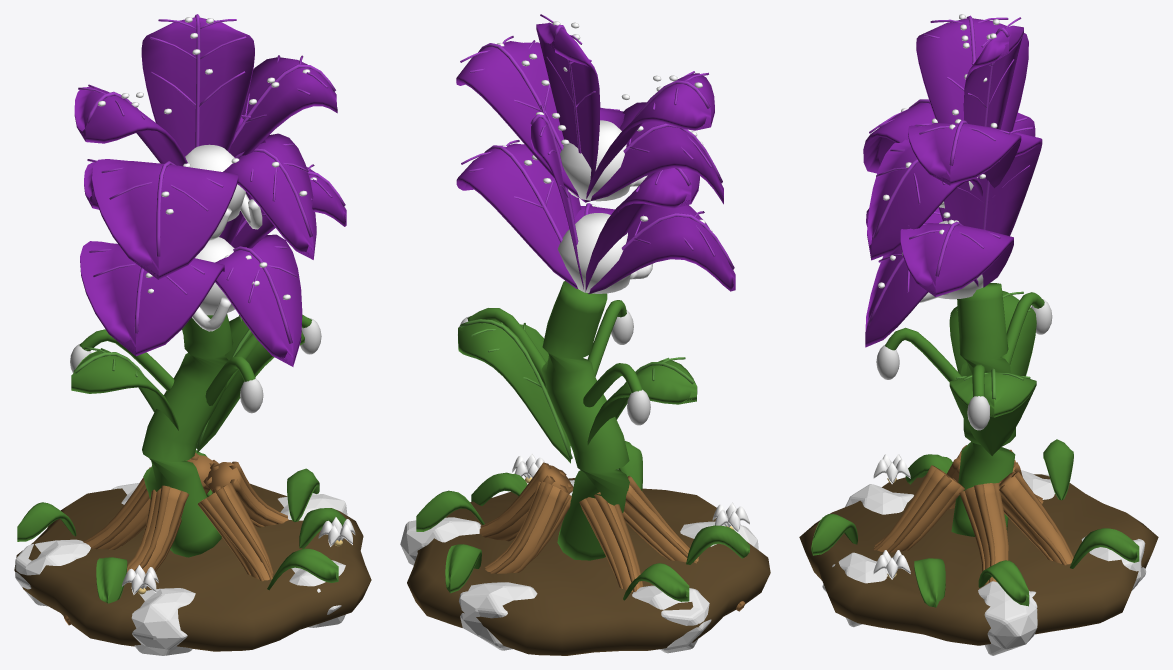
Rendered from orchid-3.fbx.
The picture shows the model from 3 angles, left to right: view 1: azimuth 30°, elevation 25°; view 2: azimuth 150°, elevation 25°; view 3: azimuth 270°, elevation 25°; orthographic projection. The views are drawn at different scales.
Parts seen in each view (by area): view 1: Petals_Petal, orchid-3_Organic, Turret_PortalBamboo, orchid-3_Bark, orchid-3_Stone, orchid-3_PortalBamboo, Barrel_Petal, Core_Glow, Barrel_Organic, orchid-3_Petal, Petals_Organic; view 2: Petals_Petal, orchid-3_Organic, Turret_PortalBamboo, orchid-3_Bark, orchid-3_Stone, orchid-3_PortalBamboo, Barrel_Petal, Core_Glow, orchid-3_Petal, Petals_Organic; view 3: Petals_Petal, orchid-3_Organic, Turret_PortalBamboo, orchid-3_Bark, orchid-3_PortalBamboo, orchid-3_Stone, Core_Glow, orchid-3_Petal, Petals_Organic.
Boxes of the visible parts, left/top/right/bottom form: Petals_Petal: left=74, top=14, right=346, bottom=366; orchid-3_Organic: left=14, top=483, right=371, bottom=651; Turret_PortalBamboo: left=71, top=314, right=311, bottom=557; orchid-3_Bark: left=63, top=452, right=288, bottom=625; orchid-3_Stone: left=15, top=483, right=347, bottom=655; orchid-3_PortalBamboo: left=17, top=450, right=346, bottom=603; Barrel_Petal: left=185, top=144, right=245, bottom=315; Core_Glow: left=70, top=318, right=321, bottom=413; Barrel_Organic: left=192, top=193, right=262, bottom=331; orchid-3_Petal: left=122, top=517, right=355, bottom=594; Petals_Organic: left=97, top=17, right=317, bottom=299; Petals_Petal: left=456, top=14, right=735, bottom=293; orchid-3_Organic: left=407, top=477, right=770, bottom=655; Turret_PortalBamboo: left=458, top=281, right=697, bottom=560; orchid-3_Bark: left=479, top=462, right=745, bottom=611; orchid-3_Stone: left=400, top=480, right=758, bottom=653; orchid-3_PortalBamboo: left=416, top=441, right=749, bottom=601; Barrel_Petal: left=558, top=120, right=630, bottom=293; Core_Glow: left=459, top=310, right=650, bottom=425; orchid-3_Petal: left=512, top=454, right=749, bottom=532; Petals_Organic: left=497, top=21, right=712, bottom=231; Petals_Petal: left=863, top=15, right=1042, bottom=347; orchid-3_Organic: left=799, top=474, right=1158, bottom=645; Turret_PortalBamboo: left=885, top=283, right=1044, bottom=536; orchid-3_Bark: left=873, top=445, right=1073, bottom=584; orchid-3_PortalBamboo: left=811, top=439, right=1139, bottom=607; orchid-3_Stone: left=822, top=470, right=1146, bottom=655; Core_Glow: left=876, top=299, right=1052, bottom=430; orchid-3_Petal: left=873, top=454, right=910, bottom=579; Petals_Organic: left=878, top=14, right=999, bottom=288.
Bounding box in the file's own units: 82.07 × 145 × 82.7.
